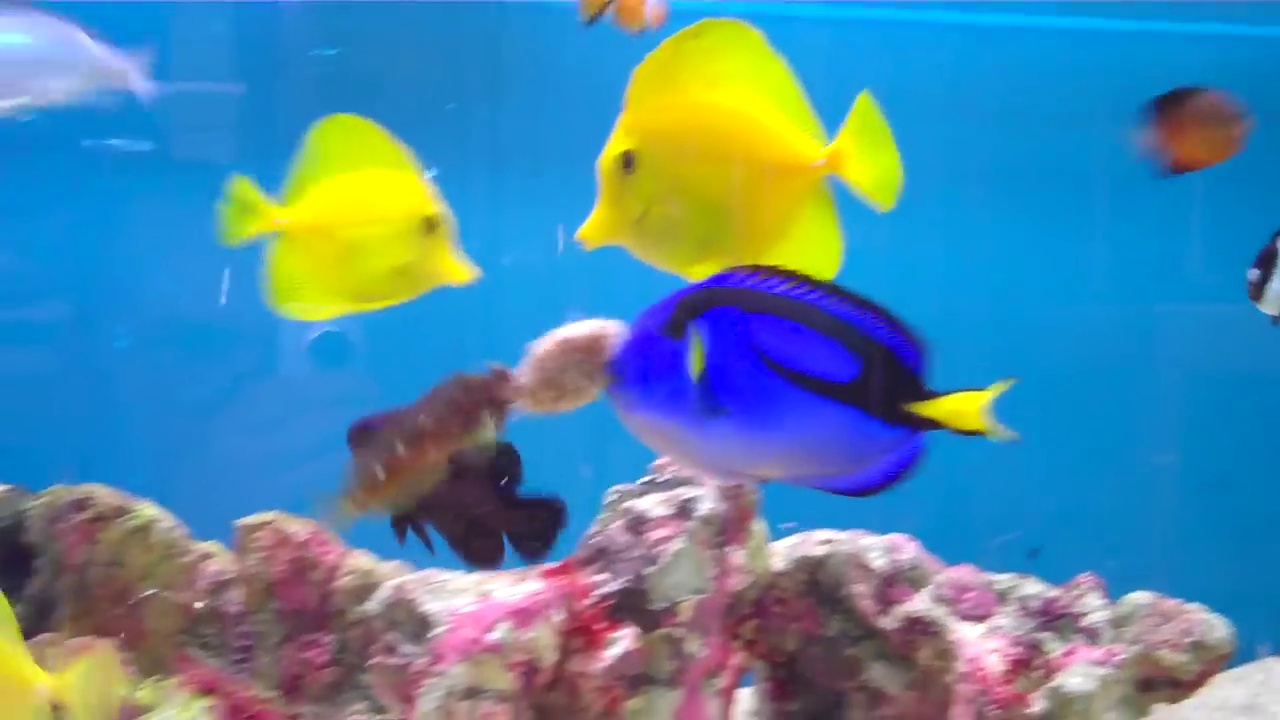blue tang surgeonfish: (609, 271, 1018, 510)
saddle butterfly fish: (579, 26, 900, 302), (222, 71, 484, 326)
